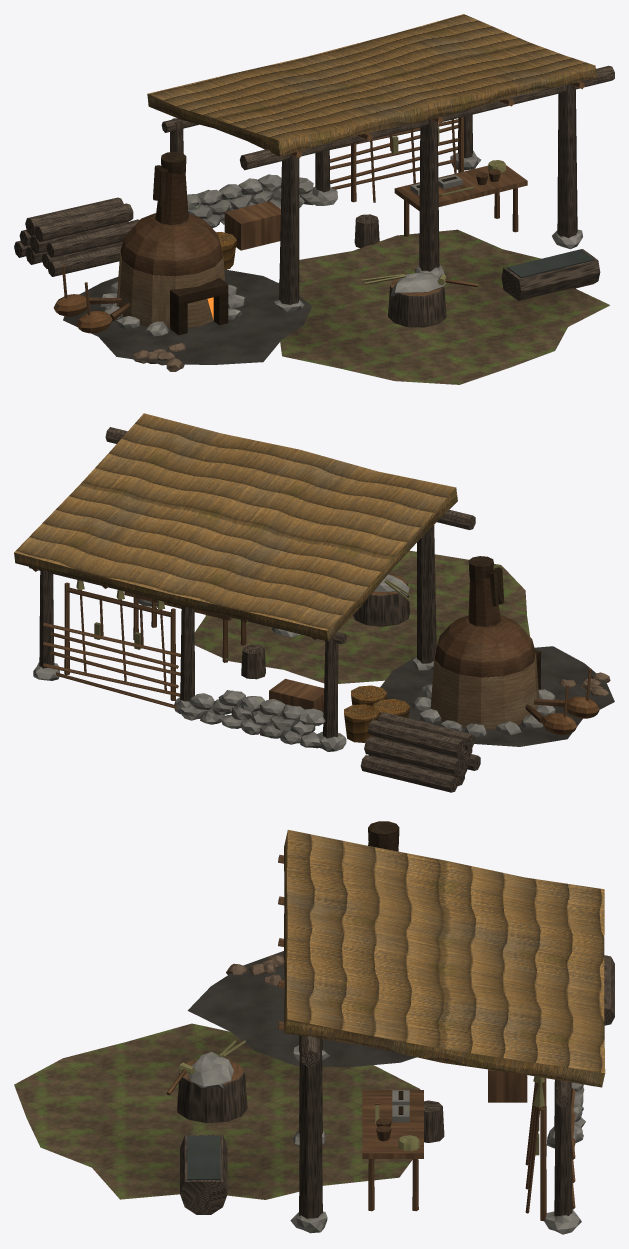
Rendered from officina_fabbro.glb.
The picture shows the model from 3 angles, top to bottom: view 1: azimuth 30°, elevation 25°; view 2: azimuth 150°, elevation 25°; view 3: azimuth 270°, elevation 25°; orthographic projection. The views are drawn at different scales.
Visible parts, largest first — view 1: officina_fabbro; view 2: officina_fabbro; view 3: officina_fabbro.
Part boxes in pixels (x1,y1,x2,y2): officina_fabbro: (14,14,614,384); officina_fabbro: (14,413,614,792); officina_fabbro: (14,821,614,1234).
Size of the model in its own units: 9.09 by 3.1 by 7.62.
16 materials, 16 textured.
